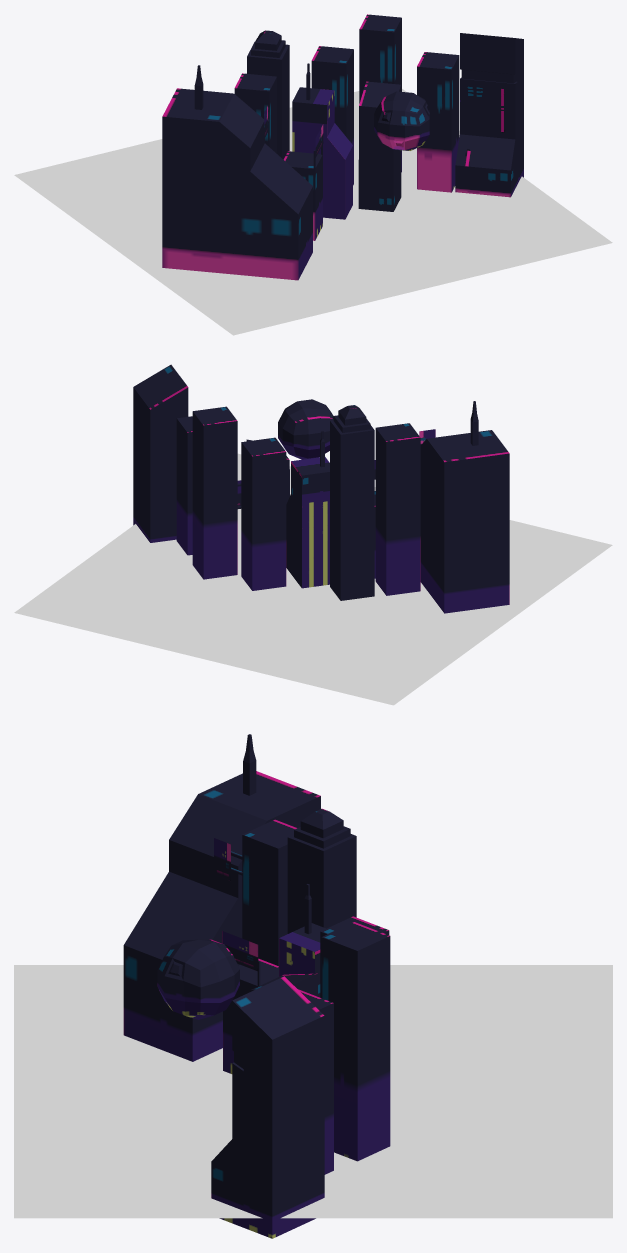
The model's file is teees22.glb.
3 renders of one model, top to bottom at view 1: azimuth 30°, elevation 25°; view 2: azimuth 150°, elevation 25°; view 3: azimuth 270°, elevation 25°, orthographic. The views are drawn at different scales.
Visible parts, largest first — view 1: Cube, Plane; view 2: Cube, Plane; view 3: Plane, Cube.
Part boxes in pixels (box(x1,y1,x2,y2)): Cube: box(162, 14, 523, 280); Plane: box(14, 89, 612, 335); Cube: box(133, 364, 509, 613); Plane: box(14, 453, 612, 705); Plane: box(14, 965, 612, 1218); Cube: box(123, 734, 390, 1238).
Bounding box in the file's own units: 24.91 × 12.99 × 24.56.
Materials: 2 (1 with a texture image).
